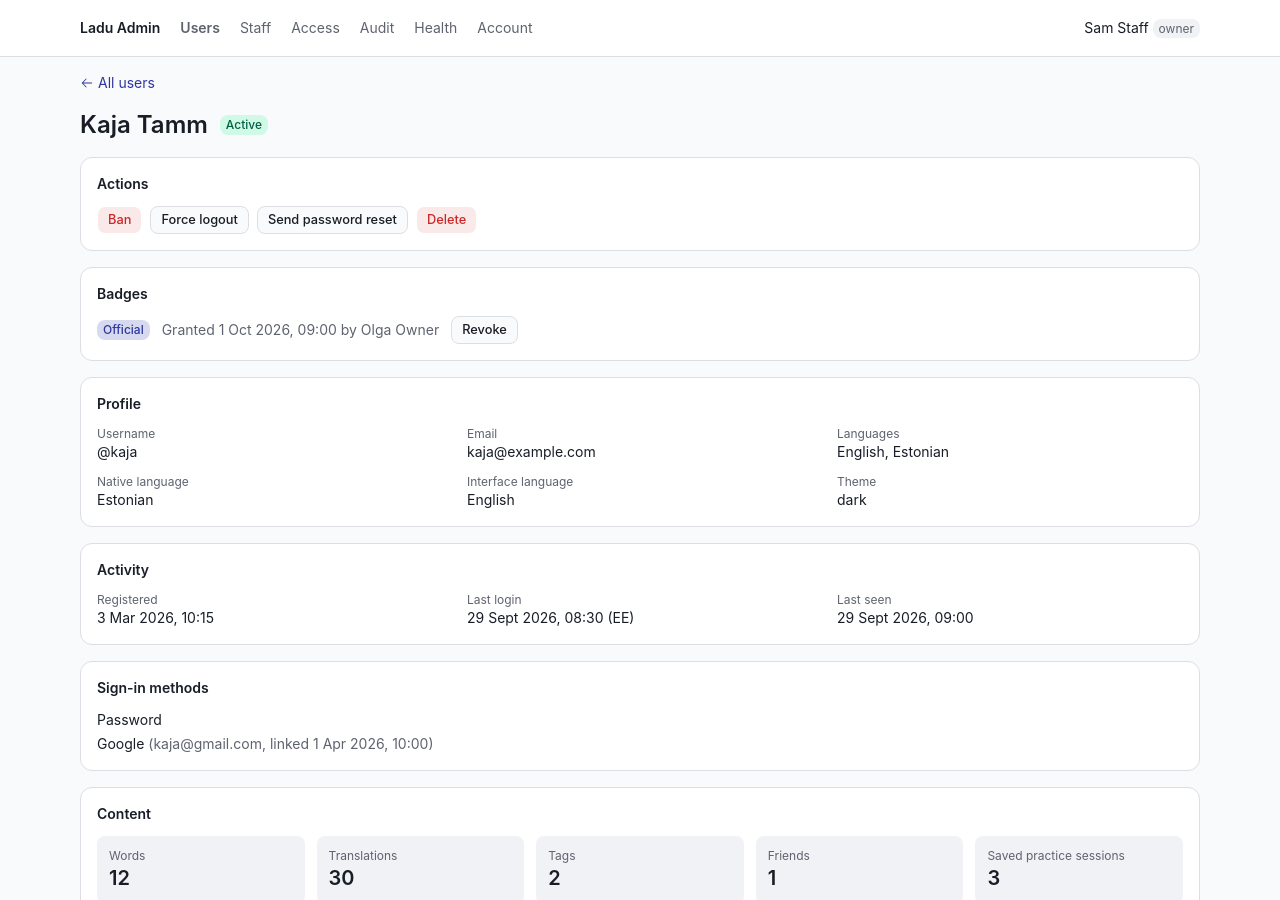
revoke › needs a reason, sends it to the revoke route, then removes the badge and shows a notice
Expected: the heading "Kaja Tamm" is shown, [80,109,208,141]
Step 1. Click the button with aria-label "Revoke the Official badge" → (484, 330), box [451,316,518,344]
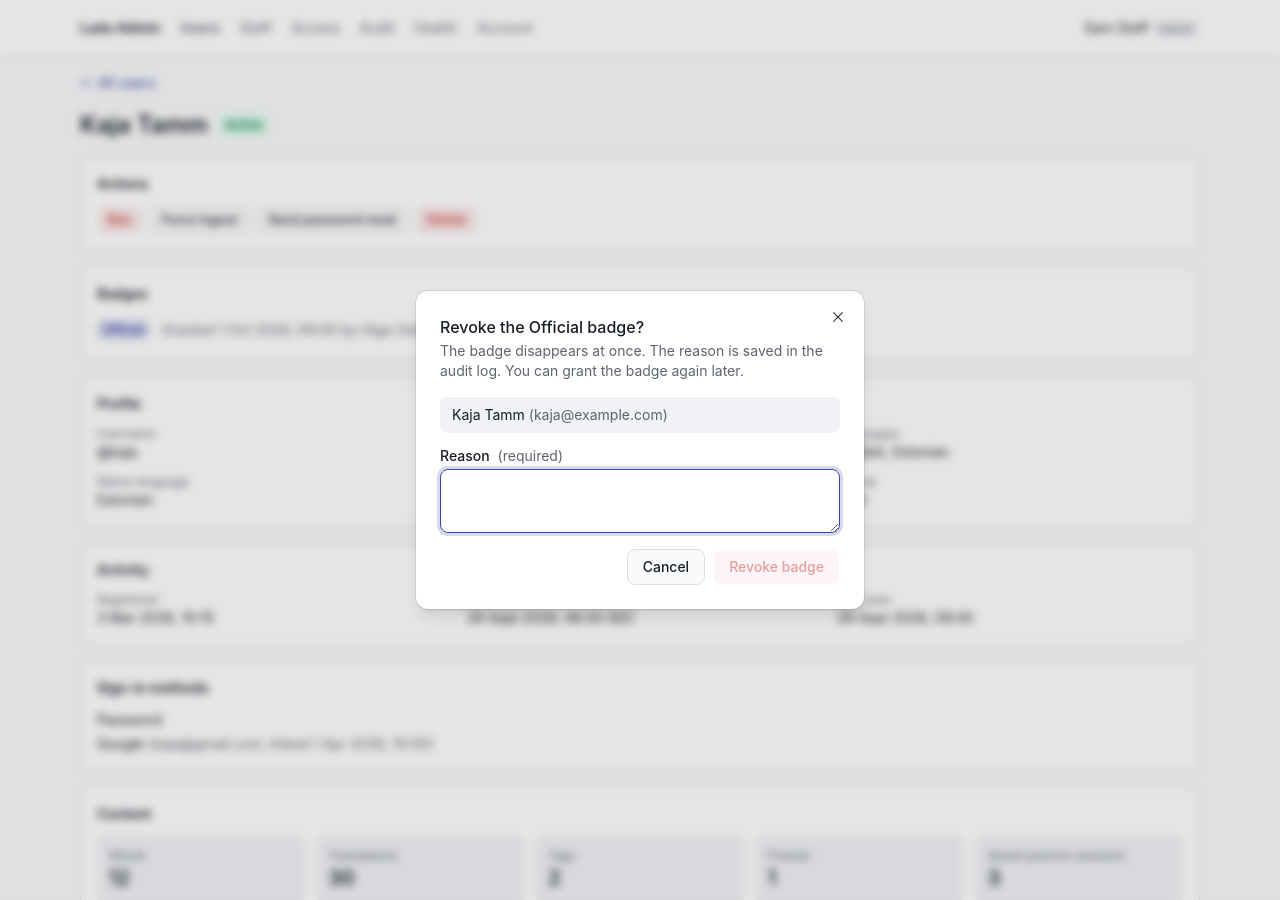
Expected: the heading "Revoke the Official badge?" is shown, [440,317,644,337]
Expected: the button "Revoke badge" is disabled, [713,549,840,585]
Step 2. Type "Left the team" into the text box labelled "Reason (required)" → (640, 501), box [440,469,840,533]
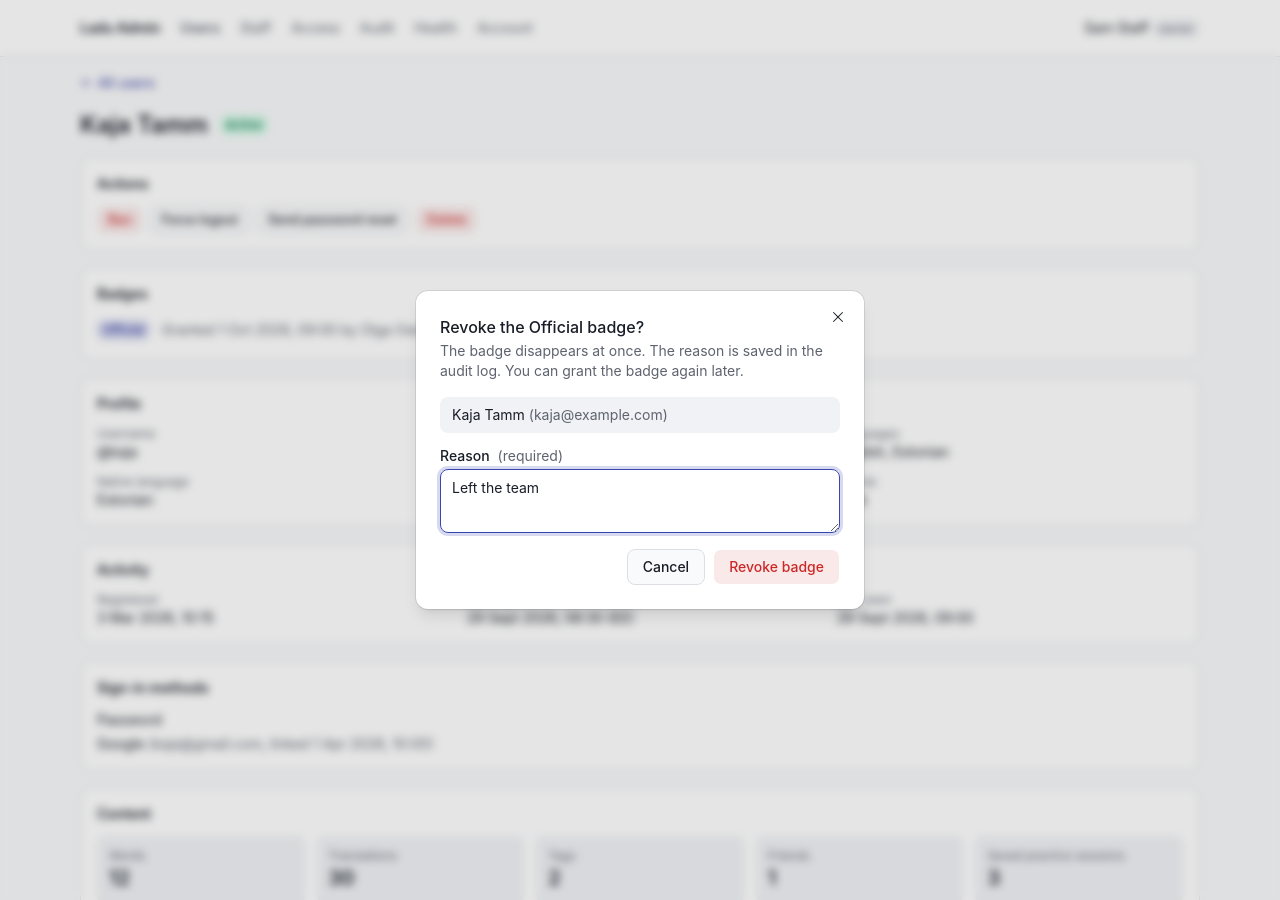
Step 3. Click the button "Revoke badge" → (777, 567), box [713,549,840,585]
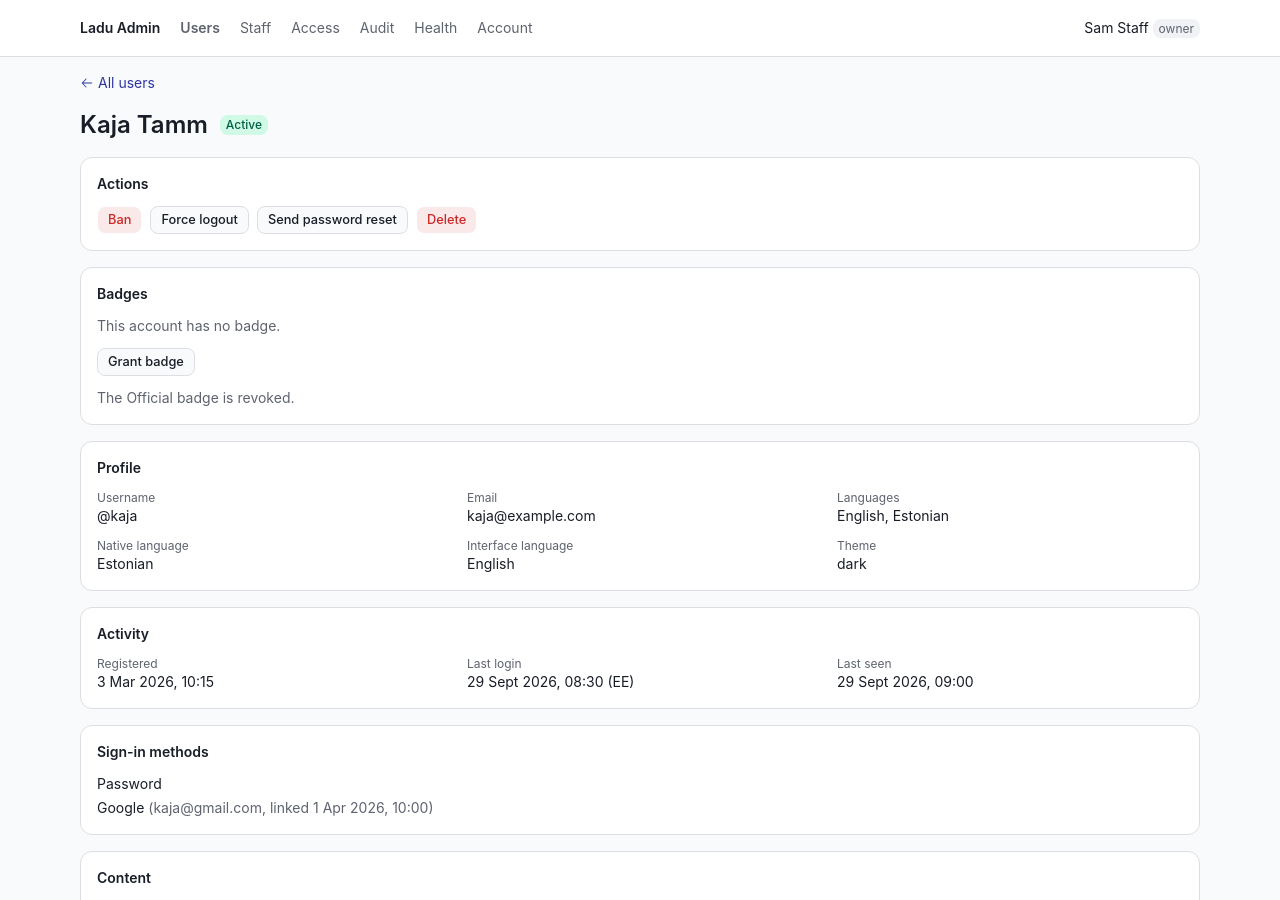
Expected: the message reads "The Official badge is revoked.", [97,389,294,406]
Expected: the text "This account has no badge." is shown, [97,317,280,334]
Expected: the buttons read "Grant badge", in this order, [97,348,195,376]
